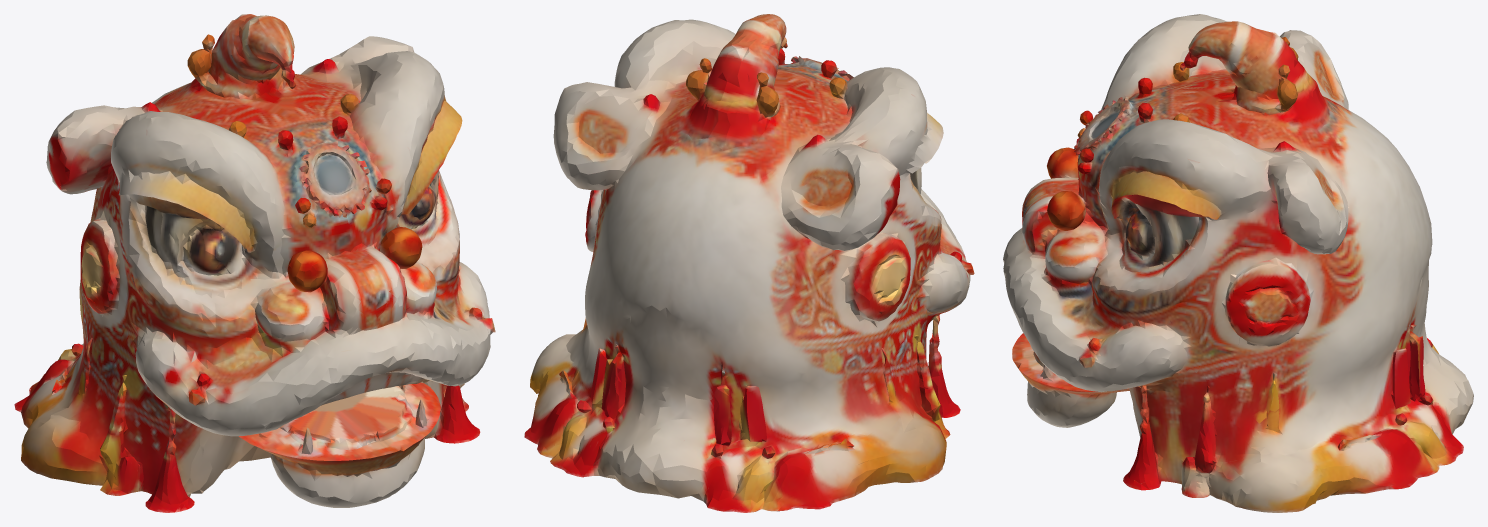
Rendered from lion-head.glb.
The picture shows the model from 3 angles, left to right: view 1: azimuth 30°, elevation 25°; view 2: azimuth 150°, elevation 25°; view 3: azimuth 270°, elevation 25°; orthographic projection. The views are drawn at different scales.
Parts seen in each view (by area): view 1: model; view 2: model; view 3: model.
Part boxes in pixels (x1=…): model: x1=14, y1=14, x2=495, y2=512; model: x1=524, y1=14, x2=974, y2=512; model: x1=1003, y1=14, x2=1473, y2=512.
Bounding box in the file's own units: 1.86 × 1.74 × 1.89.
1 material, 1 textured.
